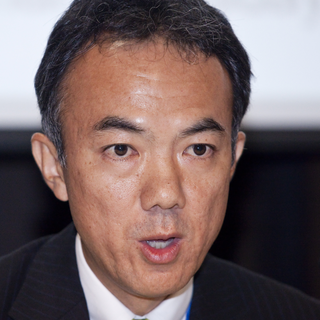eye: (96, 140, 143, 166), (177, 138, 217, 162)
